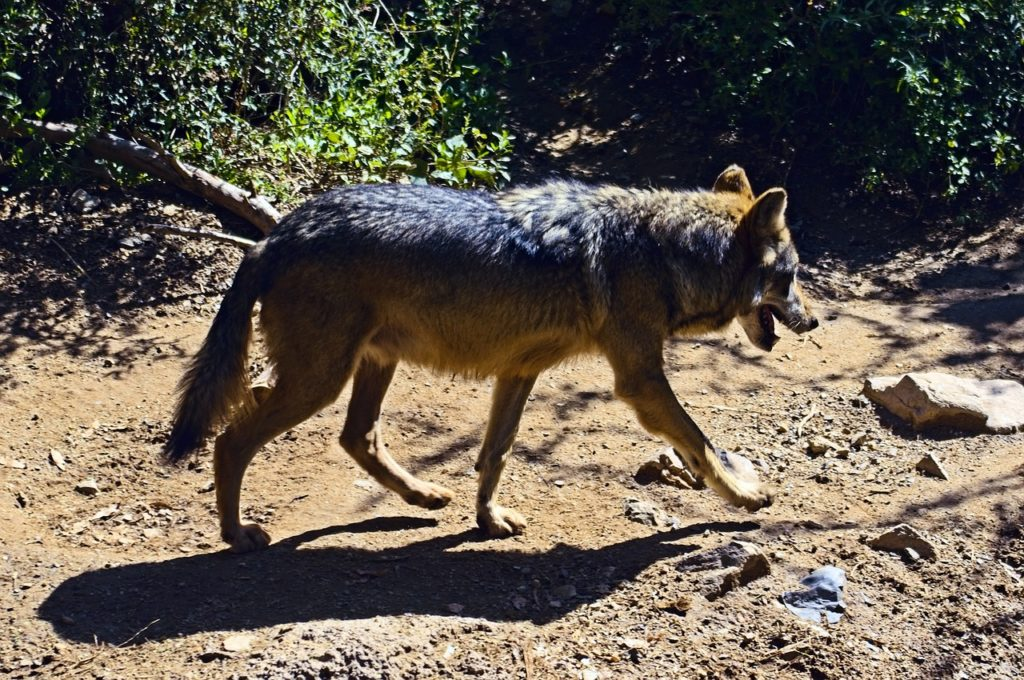Lobo: (193, 117, 863, 543)
